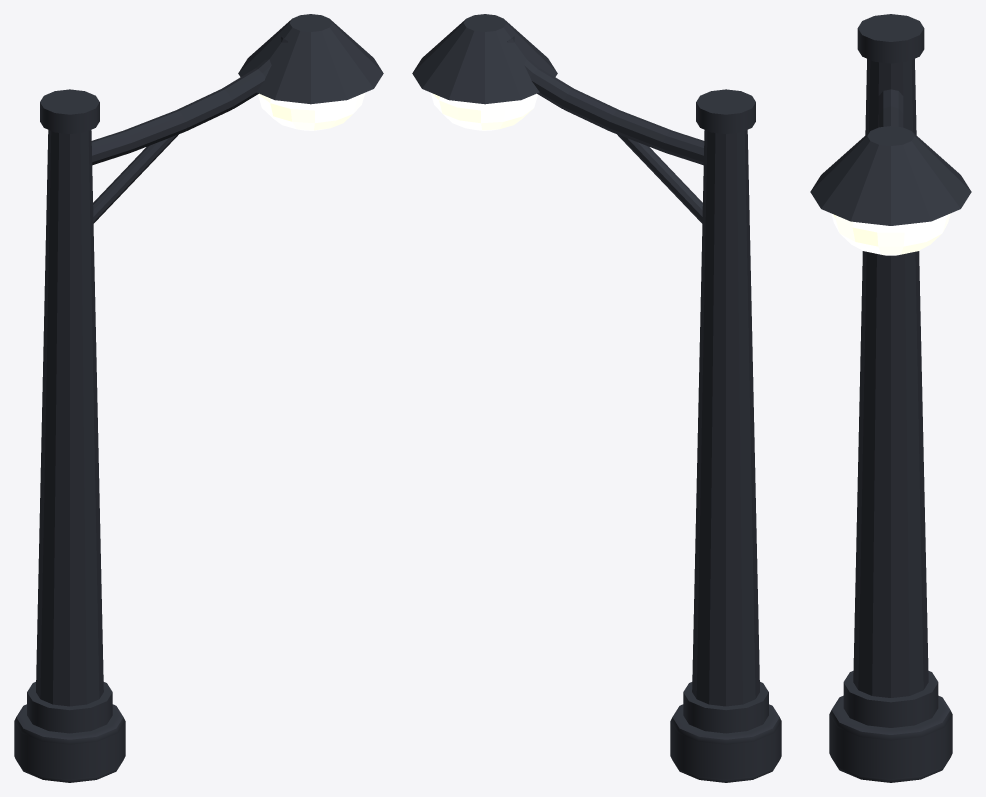
File: lamp-post.glb
3 renders of one model, left to right at view 1: azimuth 30°, elevation 25°; view 2: azimuth 150°, elevation 25°; view 3: azimuth 270°, elevation 25°, orthographic. The views are drawn at different scales.
Visible parts, largest first — view 1: part-iron, part-glass; view 2: part-iron, part-glass; view 3: part-iron, part-glass.
Part boxes in pixels (x1=…): part-iron: x1=14, y1=14, x2=383, y2=782; part-glass: x1=258, y1=93, x2=365, y2=130; part-iron: x1=412, y1=14, x2=781, y2=782; part-glass: x1=430, y1=93, x2=537, y2=130; part-iron: x1=810, y1=14, x2=971, y2=782; part-glass: x1=831, y1=213, x2=950, y2=255.
Bounding box in the file's own units: 19 × 35.04 × 6.8.
